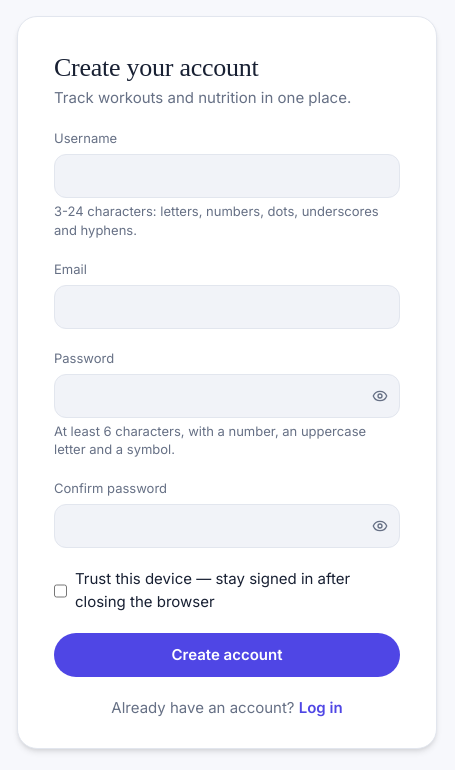
Test: RegisterScreen › shows the backend's field-level error for a taken username
Step 1. Type "demo-user" into the field labelled "Username" → (227, 176), box x1=54 y1=154 x2=400 y2=198
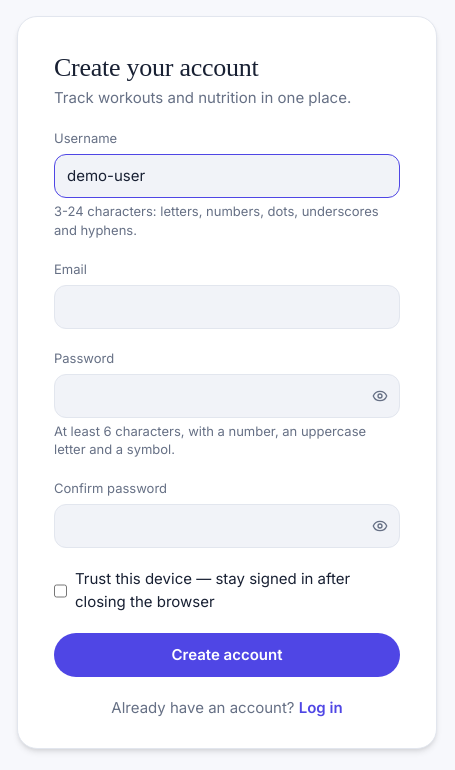
Step 2. Type "demo@example.com" into the field labelled "Email" → (227, 307), box x1=54 y1=285 x2=400 y2=329
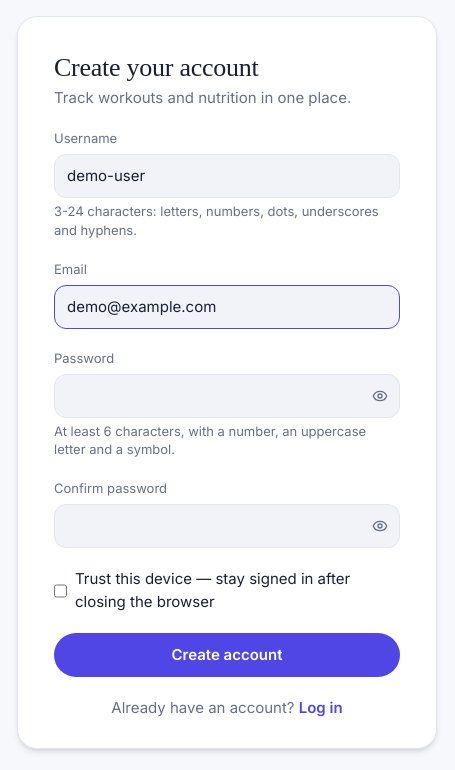
Step 3. Type "Str0ng!Pass" into the password field labelled "Password" → (227, 396), box x1=54 y1=374 x2=400 y2=418
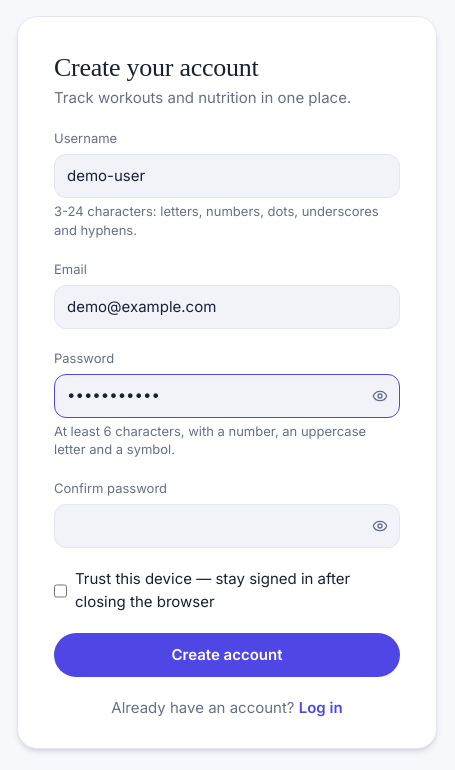
Step 4. Type "Str0ng!Pass" into the password field labelled "Confirm password" → (227, 526), box x1=54 y1=504 x2=400 y2=548
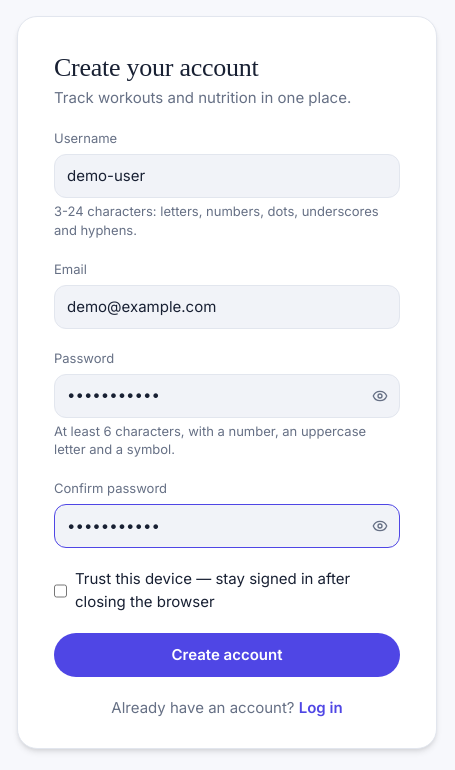
Step 5. Click the button "Create account" → click(227, 655), box x1=54 y1=633 x2=400 y2=677
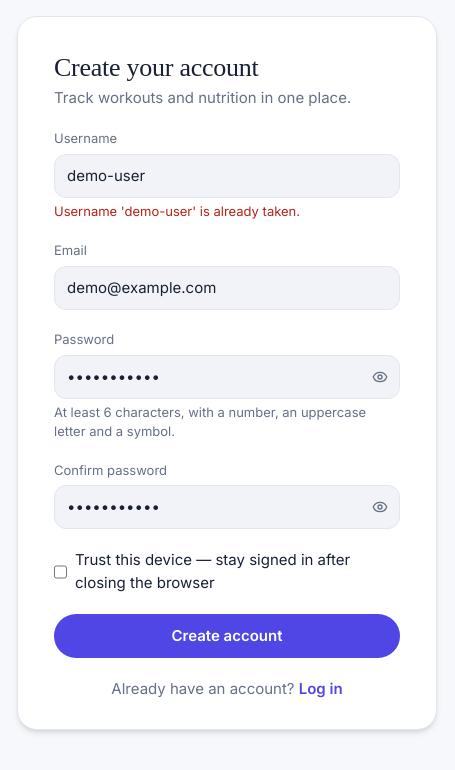
Expected: the text "Username 'demo-user' is already taken." is shown, x1=54 y1=203 x2=300 y2=219
